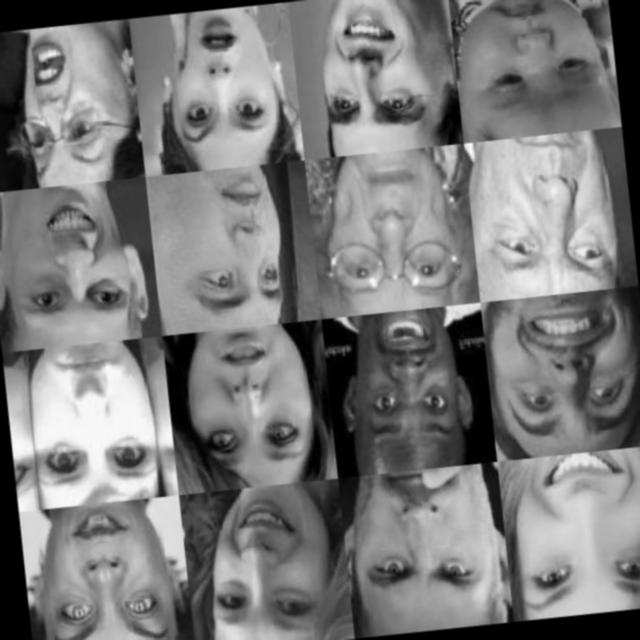angry: (349, 468, 503, 624), (342, 315, 487, 468), (154, 12, 298, 159), (0, 26, 127, 174), (484, 148, 622, 284)
fear: (0, 185, 154, 337)
happy: (508, 446, 640, 606), (498, 294, 636, 432), (311, 0, 447, 137), (200, 492, 328, 636)
neutral: (163, 166, 310, 317), (35, 498, 189, 640), (29, 347, 164, 502)
sad: (315, 142, 466, 306), (180, 330, 319, 478), (459, 0, 608, 113)
